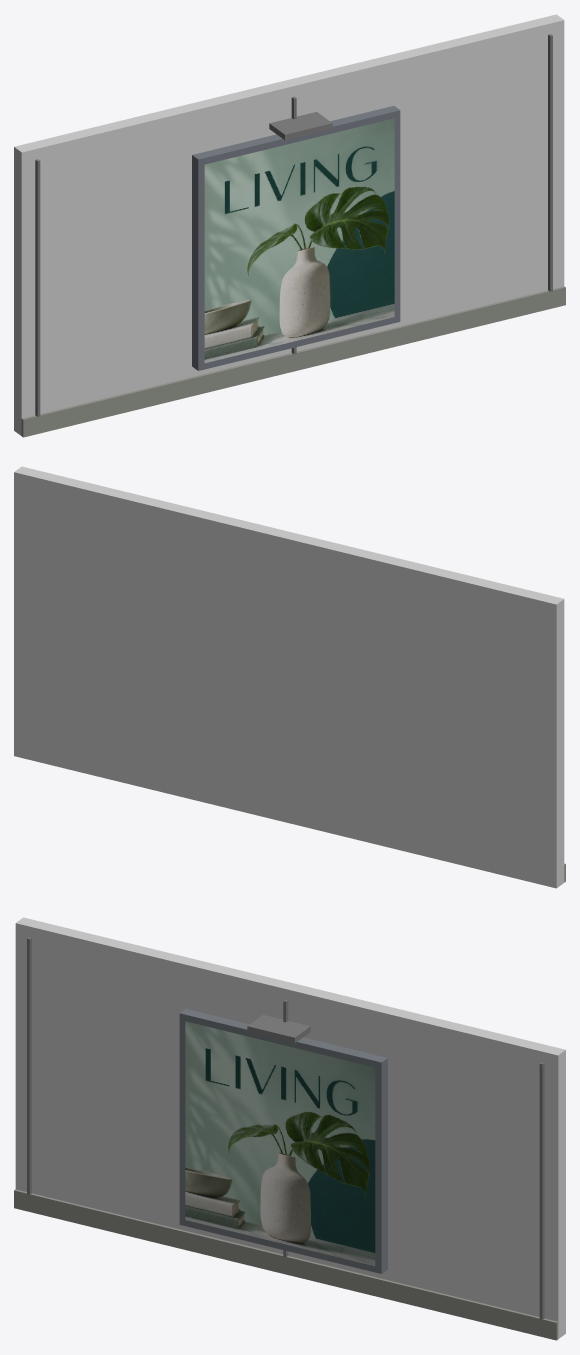
Rendered from top-w3_close.fbx.
3 renders of one model, top to bottom at view 1: azimuth 30°, elevation 25°; view 2: azimuth 150°, elevation 25°; view 3: azimuth 330°, elevation 25°, orthographic.
Parts seen in each view (by area): view 1: a2008/0/top-w3_close; view 2: a2008/0/top-w3_close; view 3: a2008/0/top-w3_close.
Part boxes in pixels (left/top/right/bottom): a2008/0/top-w3_close: left=14, top=14, right=565, bottom=437; a2008/0/top-w3_close: left=14, top=466, right=565, bottom=888; a2008/0/top-w3_close: left=14, top=917, right=565, bottom=1340.
Bounding box in the file's own units: 8 × 4 × 0.6.
